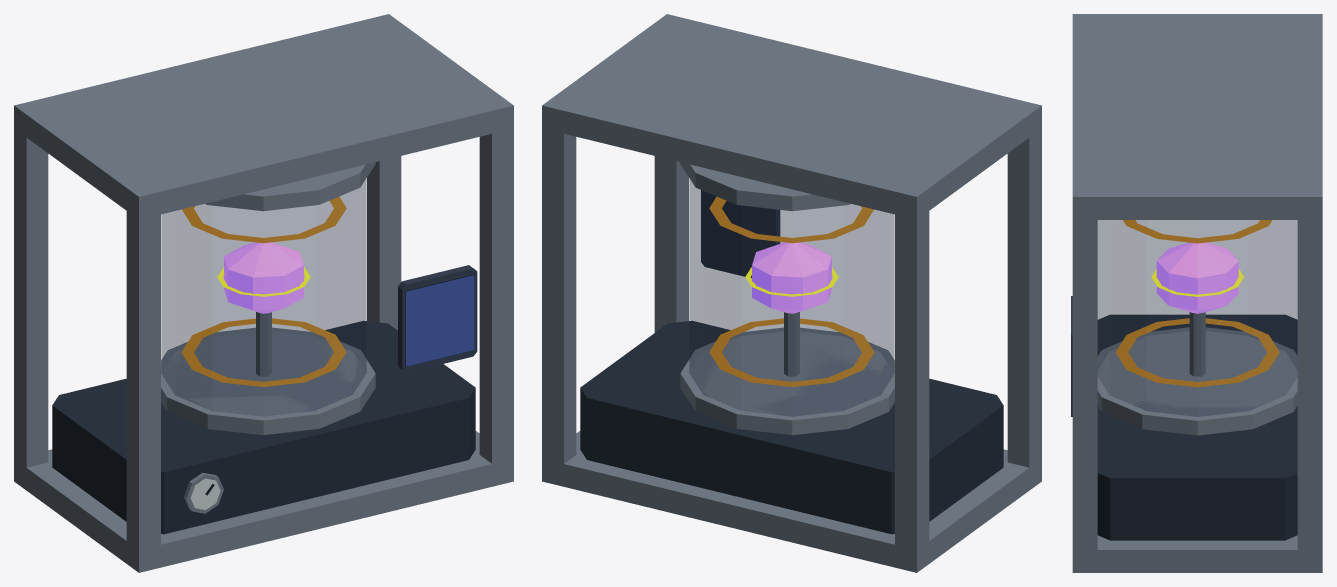
File: fus_plasma_test_chamber.glb
3 views of the same model, side by side, from view 1: azimuth 30°, elevation 25°; view 2: azimuth 150°, elevation 25°; view 3: azimuth 270°, elevation 25° (orthographic).
Visible parts, largest first — view 1: chamber_flange, bell_jar, vacuum_base, print, plasma_core, trap_coil, bezel, gauge_dial; view 2: chamber_flange, bell_jar, vacuum_base, plasma_core, bezel, trap_coil; view 3: chamber_flange, bell_jar, vacuum_base, plasma_core, trap_coil, core_equator.
Boxes of the visible parts, x1,y1,x2,y2 form: chamber_flange: (14,14,513,572); bell_jar: (161,178,366,415); vacuum_base: (52,321,475,534); print: (406,275,474,366); plasma_core: (224,242,303,313); trap_coil: (181,196,346,386); bezel: (398,265,477,372); gauge_dial: (190,478,220,509); chamber_flange: (542,14,1041,572); bell_jar: (689,178,894,416); vacuum_base: (580,321,1003,534); plasma_core: (752,242,831,313); bezel: (701,190,780,277); trap_coil: (709,196,874,386); chamber_flange: (1072,14,1322,572); bell_jar: (1098,220,1297,416); vacuum_base: (1097,314,1297,540); plasma_core: (1156,242,1238,313); trap_coil: (1115,220,1279,387); core_equator: (1151,269,1243,296).
Size of the model in its own units: 2.4 by 2.3 by 1.4.
